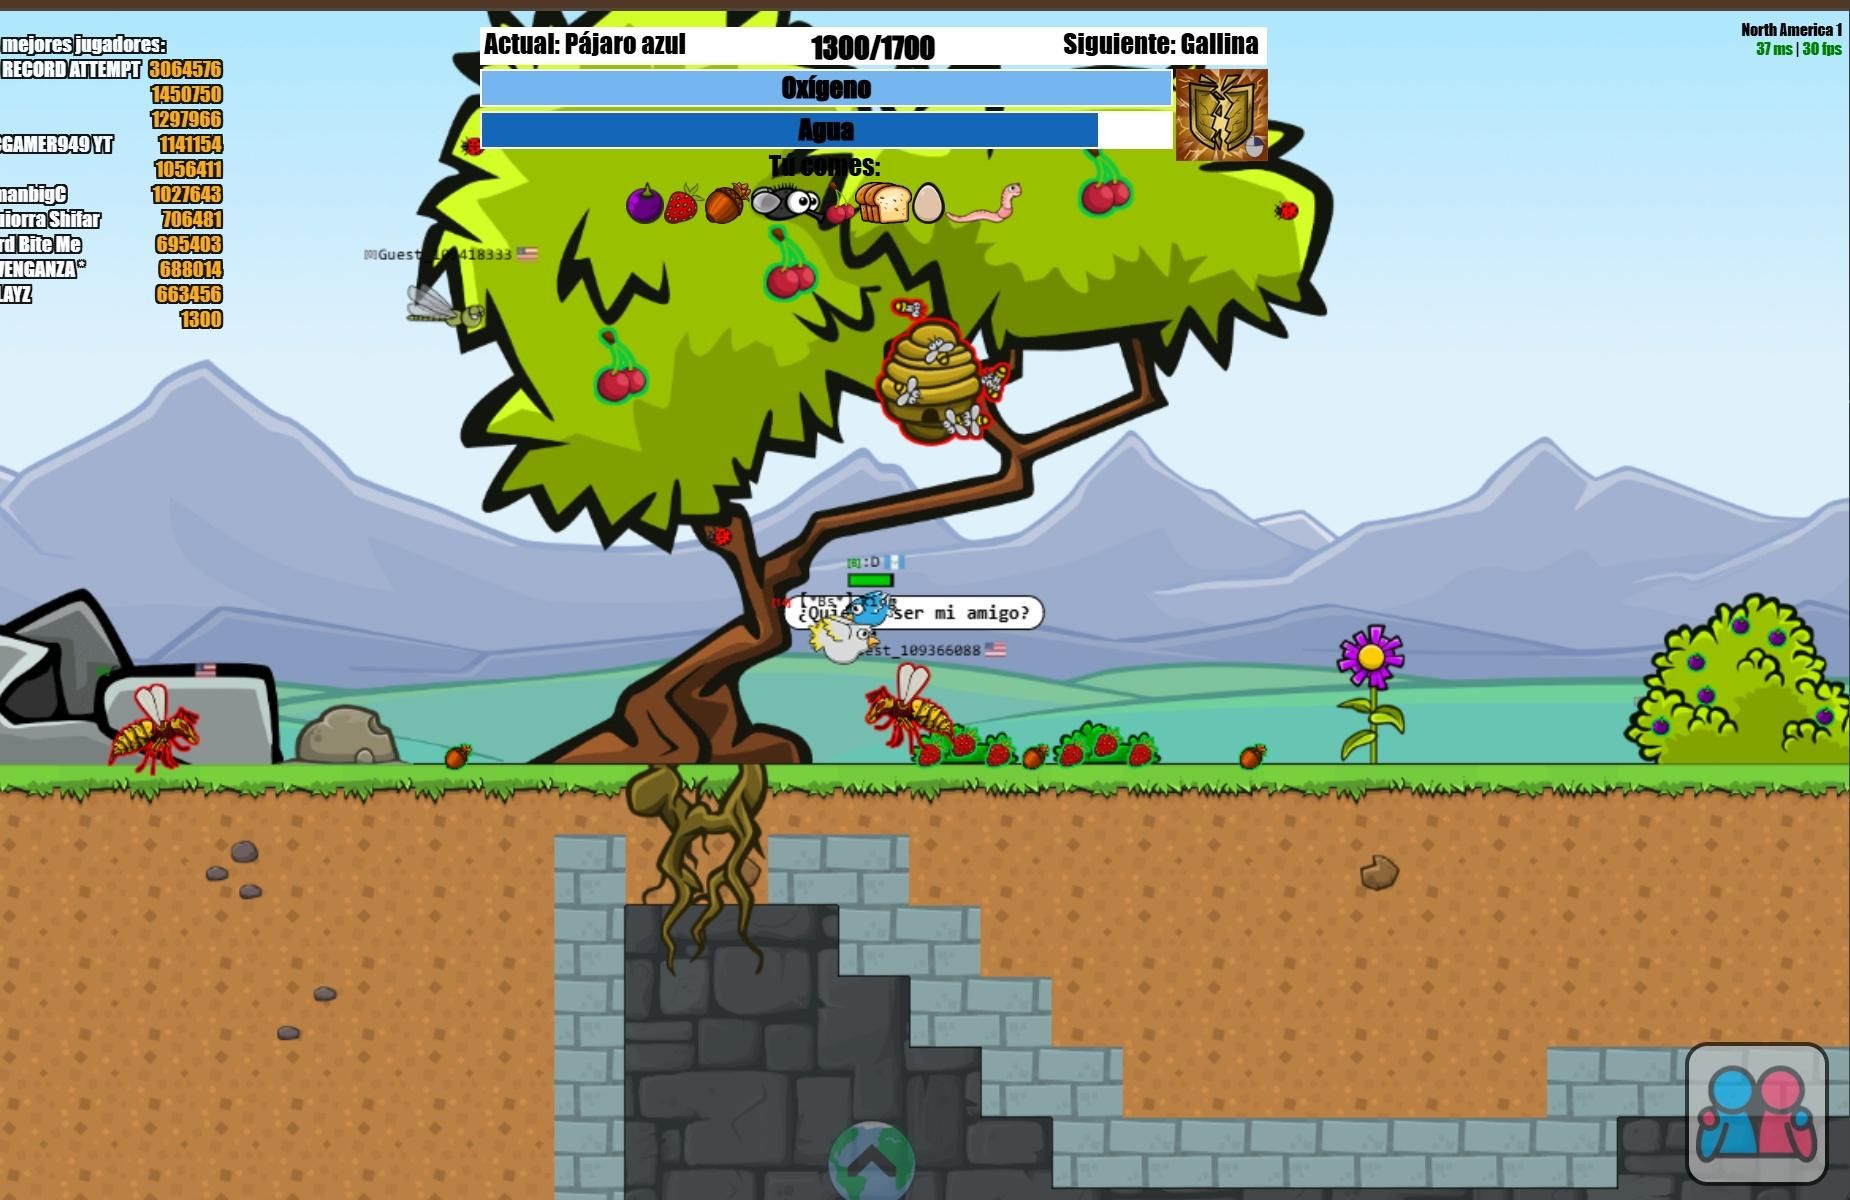avellana: (444, 743, 473, 767)
avispon: (864, 662, 955, 754), (105, 686, 201, 771)
enjambre: (878, 298, 1006, 446)
flor: (1338, 620, 1405, 696)
fresa: (1131, 740, 1156, 764), (953, 733, 980, 755), (1058, 744, 1081, 764), (1096, 733, 1115, 755)
gaviota: (809, 616, 876, 665)
guinda: (595, 326, 650, 403), (769, 228, 813, 299), (1087, 151, 1125, 216)
ladrillo: (1052, 1118, 1613, 1184), (556, 837, 615, 1199), (984, 1048, 1123, 1115)
libelula: (402, 279, 488, 334)
mariquita: (1276, 197, 1297, 222), (708, 527, 734, 546)
p_azul: (843, 592, 890, 628)
raiz: (626, 759, 759, 944)
suelo: (5, 766, 547, 1197), (903, 764, 1849, 905), (1130, 793, 1540, 1112), (78, 828, 473, 1091)
vida: (848, 570, 895, 588)
